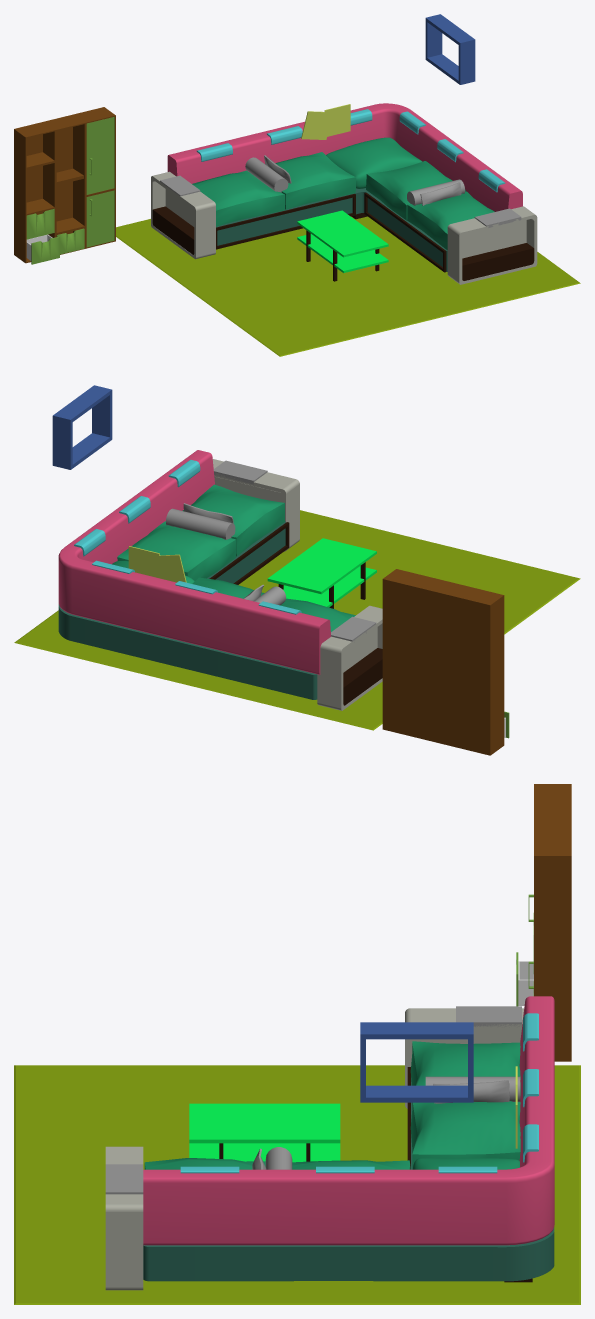
Rendered from setting.FBX.
3 renders of one model, top to bottom at view 1: azimuth 30°, elevation 25°; view 2: azimuth 150°, elevation 25°; view 3: azimuth 270°, elevation 25°, orthographic. The views are drawn at different scales.
Parts seen in each view (by area): view 1: Plane011, Rectangle009, Box023, Rectangle010, Box008, Box007, Box003, WRectangle011, Box009, Box013, WRectangle001, Box010 (+22 smaller); view 2: Rectangle009, Box023, Plane011, Rectangle010, WRectangle011, Box009, Box013, Box010, WRectangle001, WRectangle004, Rectangle011, Box011 (+12 smaller); view 3: Plane011, Rectangle009, Rectangle010, Box023, Box013, Box007, WRectangle011, WRectangle004, Box008, Box014, Rectangle011, Rectangle012 (+9 smaller).
Part boxes in pixels (x1,y1,x2,y2): Plane011: (116, 216, 580, 356); Rectangle009: (167, 103, 522, 211); Box023: (14, 107, 115, 263); Rectangle010: (216, 188, 447, 271); Box008: (192, 170, 284, 226); Box007: (275, 152, 355, 209); Box003: (326, 137, 422, 188); WRectangle011: (425, 14, 475, 84); Box009: (366, 161, 465, 220); Box013: (297, 210, 388, 257); WRectangle001: (151, 171, 215, 259); Box010: (407, 191, 494, 250); Rectangle009: (58, 450, 330, 674); Box023: (382, 569, 504, 755); Plane011: (14, 510, 580, 730); Rectangle010: (58, 521, 317, 699); WRectangle011: (52, 385, 112, 469); Box009: (117, 521, 236, 580); Box013: (267, 538, 376, 594); Box010: (182, 484, 284, 556); WRectangle001: (317, 605, 382, 710); WRectangle004: (212, 459, 299, 551); Rectangle011: (74, 459, 200, 556); Box011: (343, 648, 382, 705); Plane011: (14, 1065, 580, 1304); Rectangle009: (143, 996, 554, 1245); Rectangle010: (143, 1078, 554, 1281); Box023: (534, 784, 571, 1061); Box013: (189, 1103, 340, 1143); Box007: (410, 1101, 520, 1169); WRectangle011: (360, 1022, 473, 1102); WRectangle004: (105, 1146, 143, 1290); Box008: (410, 1041, 520, 1096); Box014: (189, 1143, 340, 1162); Rectangle011: (180, 1166, 497, 1173); Rectangle012: (523, 1013, 538, 1162).
Bounding box in the file's own units: 395 × 158 × 300.
